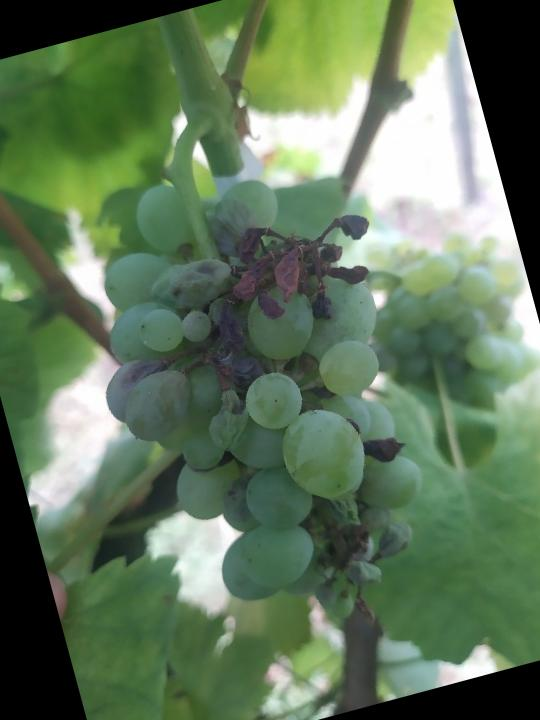grape: (53, 131, 476, 681)
